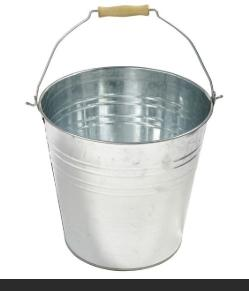SEAU: (16, 0, 236, 275)
